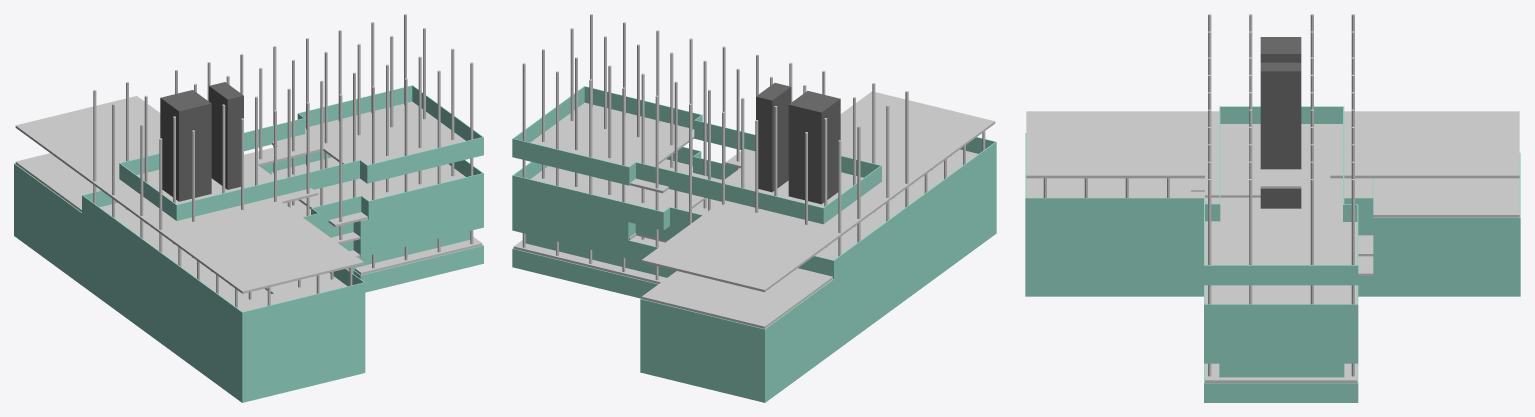
File: flux.fbx
The picture shows the model from 3 angles, left to right: view 1: azimuth 30°, elevation 25°; view 2: azimuth 150°, elevation 25°; view 3: azimuth 270°, elevation 25°; orthographic projection. The views are drawn at different scales.
Visible parts, largest first — view 1: floor6, walls4, walls6, walls3, walls2, floor4, walls0, walls1, toilet, elevator, floor1 new, Pillar.005 (+12 smaller); view 2: floor6, floor4, walls6, walls3, walls0, walls2, walls4, walls1, toilet, elevator, floor1 new, Pillar.034 (+11 smaller); view 3: floor6, floor4, walls3, walls0, walls2, walls1, walls4, walls6, elevator, floor3, floor1 new, toilet (+2 smaller).
Boxes of the visible parts, x1,y1,x2,y2 form: floor6: (15, 96, 465, 293); walls4: (82, 151, 483, 330); walls6: (119, 85, 483, 220); walls3: (14, 163, 483, 348); walls2: (14, 182, 483, 366); floor4: (15, 153, 465, 311); walls0: (14, 218, 483, 402); walls1: (14, 200, 470, 384); toilet: (160, 90, 211, 201); elevator: (209, 82, 243, 189); floor1 new: (354, 237, 482, 274); Pillar.005: (339, 94, 342, 245); floor6: (530, 91, 995, 292); floor4: (530, 149, 978, 328); walls6: (512, 86, 881, 224); walls3: (512, 160, 996, 347); walls0: (512, 215, 996, 402); walls2: (512, 179, 996, 365); walls4: (512, 137, 996, 278); walls1: (525, 197, 996, 384); toilet: (788, 91, 840, 204); elevator: (756, 83, 791, 192); floor1 new: (513, 240, 666, 283); Pillar.034: (655, 95, 658, 280); floor6: (1026, 111, 1519, 264); floor4: (1026, 178, 1519, 304); walls3: (1025, 152, 1520, 343); walls0: (1025, 277, 1520, 402); walls2: (1025, 237, 1520, 363); walls1: (1025, 257, 1520, 377); walls4: (1025, 133, 1373, 324); walls6: (1204, 106, 1358, 285); elevator: (1260, 62, 1301, 208); floor3: (1088, 178, 1373, 256); floor1 new: (1205, 363, 1357, 382); toilet: (1260, 37, 1301, 62).
Size of the model in its own units: 7500 by 4450 by 9150.
